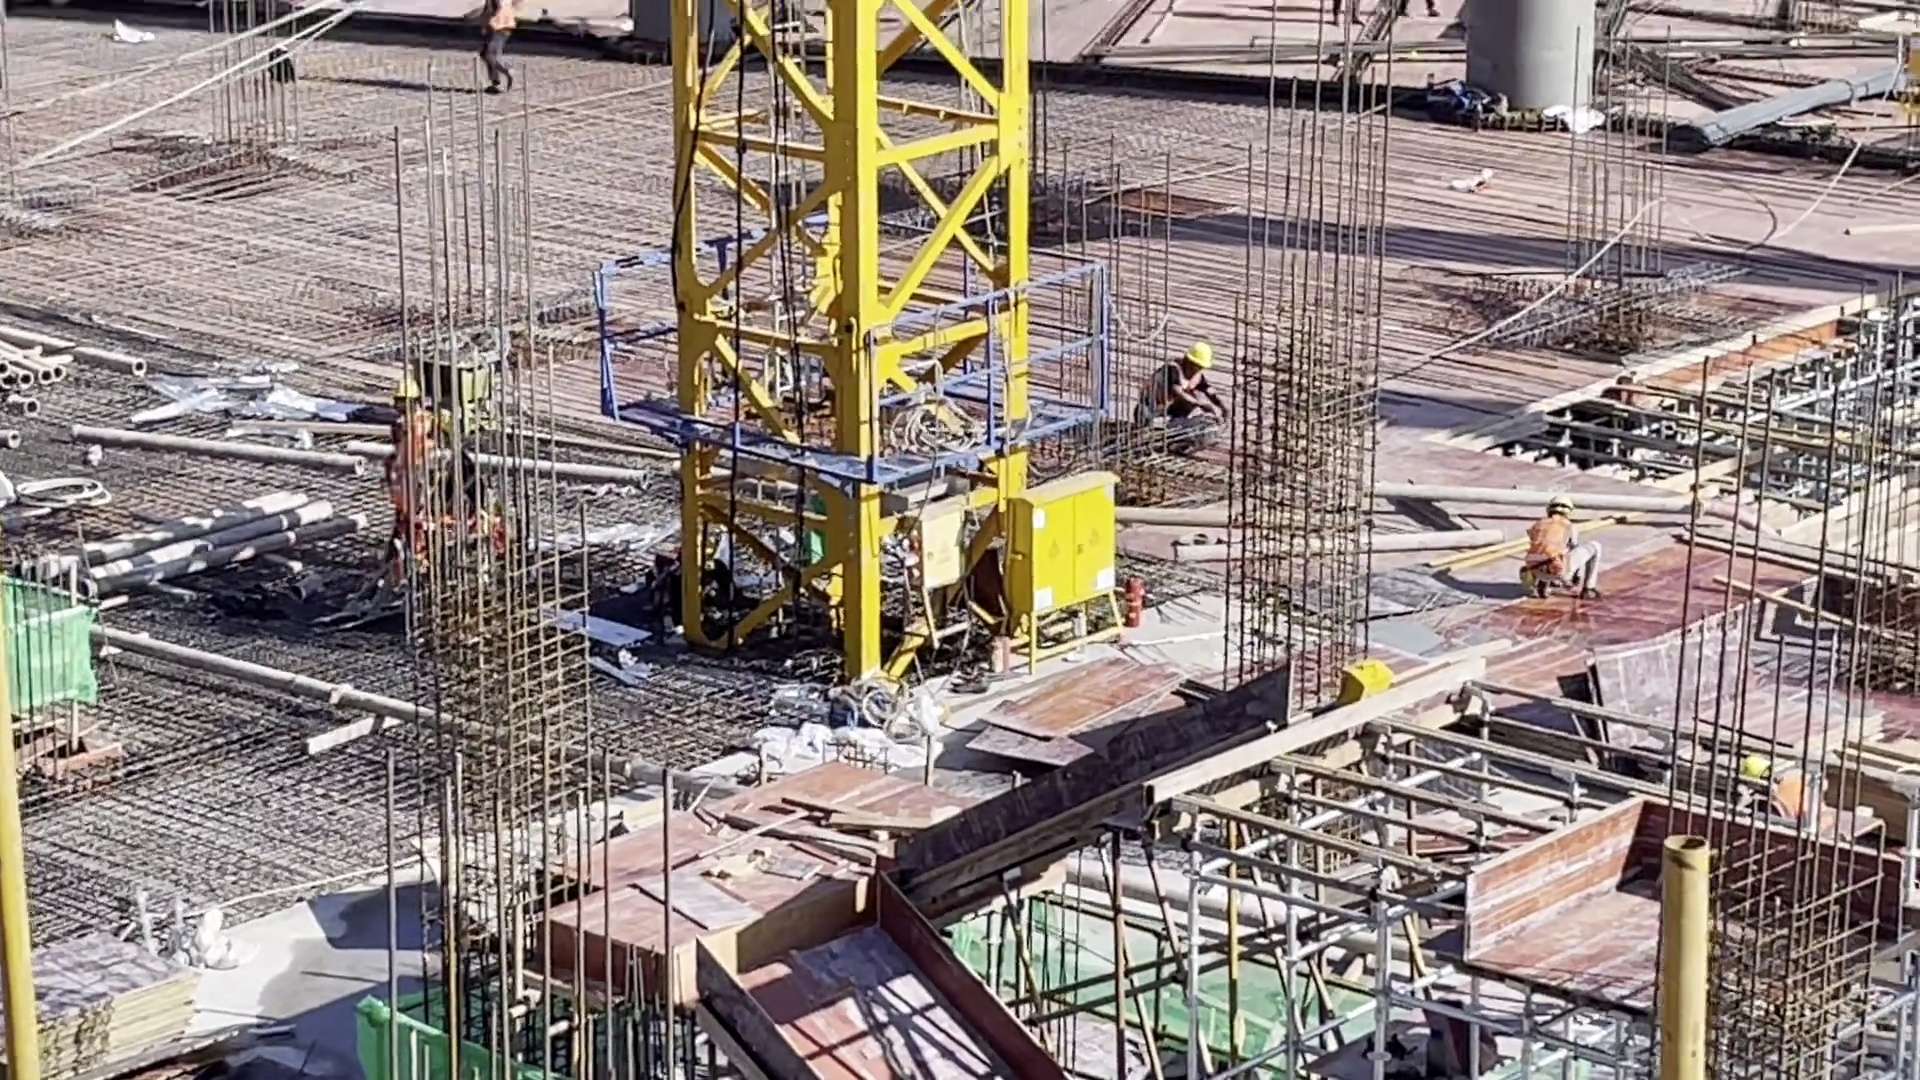board: (1, 924, 198, 1075)
ebox: (1011, 474, 1132, 661), (909, 483, 975, 640), (1341, 655, 1405, 703)
helmet: (1742, 752, 1774, 787), (1184, 337, 1215, 369), (1545, 493, 1578, 514)
person: (1132, 337, 1230, 436), (1744, 759, 1843, 852), (1516, 494, 1605, 595), (390, 377, 436, 535), (476, 1, 520, 93)
rebar: (1662, 57, 1916, 167)
vest: (1140, 360, 1203, 421), (1765, 775, 1832, 828), (1528, 522, 1575, 581), (485, 1, 517, 33)
